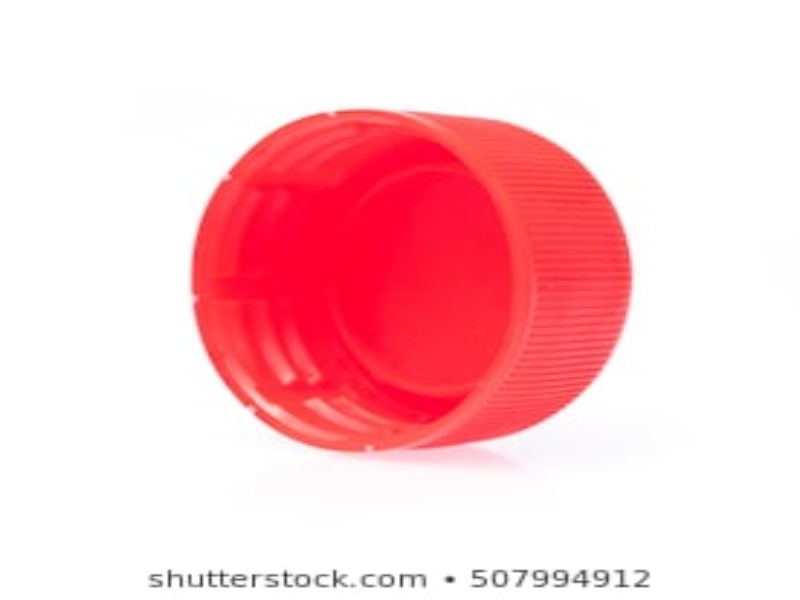bottle-cap: (187, 105, 633, 460)
